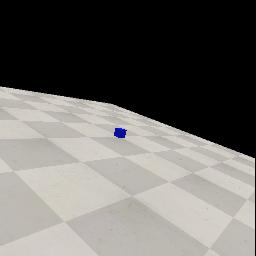box: (114, 128, 127, 138)
